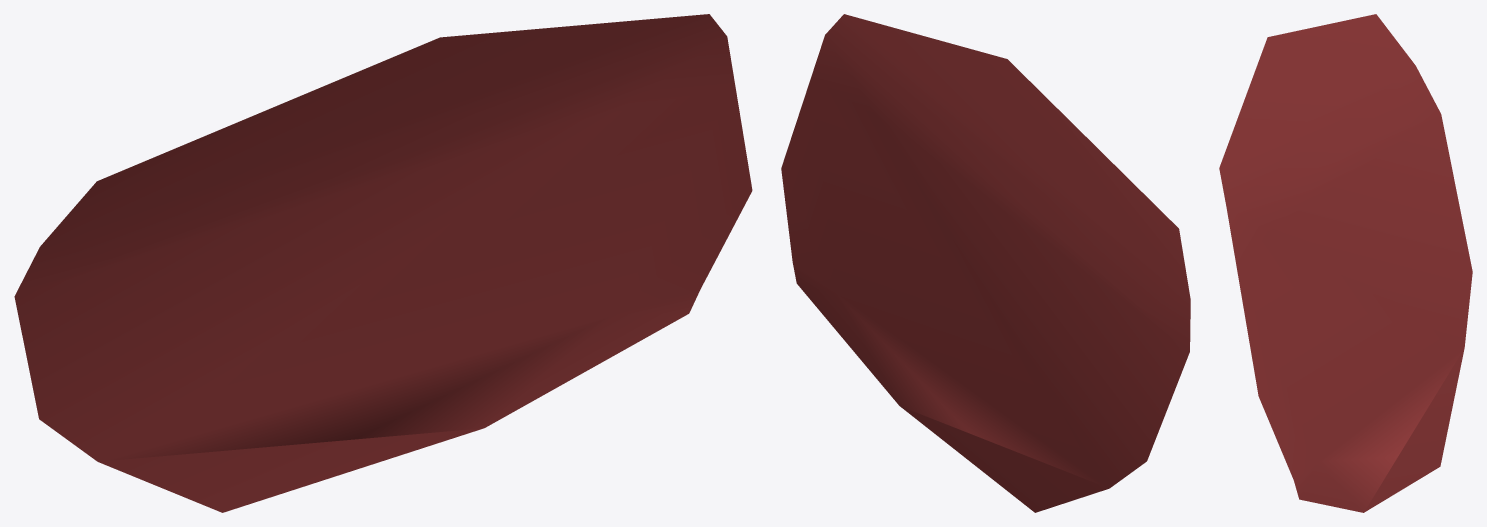
Rendered from longissimus-thoracis-muscle-e16r.glb.
3 renders of one model, left to right at view 1: azimuth 30°, elevation 25°; view 2: azimuth 150°, elevation 25°; view 3: azimuth 270°, elevation 25°, orthographic. The views are drawn at different scales.
Visible parts, largest first — view 1: Longissimus thoracis muscle.e16r; view 2: Longissimus thoracis muscle.e16r; view 3: Longissimus thoracis muscle.e16r.
Part boxes in pixels (x1,y1,x2,y2): Longissimus thoracis muscle.e16r: (14,14,752,512); Longissimus thoracis muscle.e16r: (781,14,1190,512); Longissimus thoracis muscle.e16r: (1219,14,1472,512).
Size of the model in its own units: 0.00742 by 0.00564 by 0.00265.
